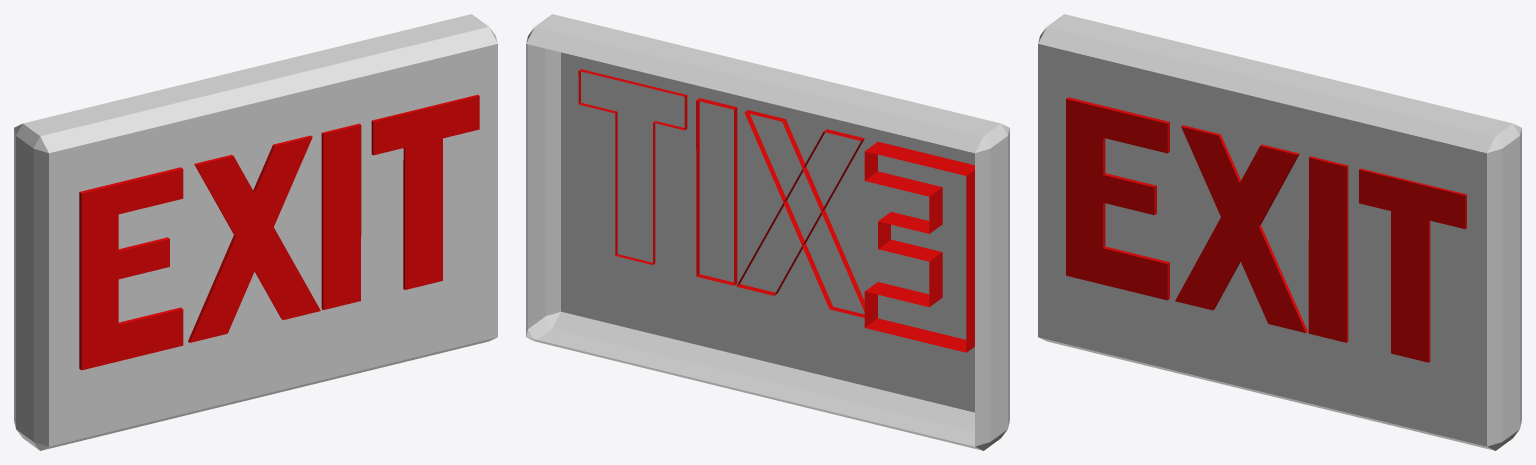
Rendered from ExitSign.fbx.
3 views of the same model, side by side, from view 1: azimuth 30°, elevation 25°; view 2: azimuth 150°, elevation 25°; view 3: azimuth 330°, elevation 25° (orthographic).
Parts seen in each view (by area): view 1: polySurface6; view 2: polySurface6; view 3: polySurface6.
Part boxes in pixels (x1=…): polySurface6: x1=14, y1=14, x2=497, y2=450; polySurface6: x1=526, y1=14, x2=1009, y2=450; polySurface6: x1=1038, y1=14, x2=1521, y2=450.
Size of the model in its own units: 0.6424 by 0.4178 by 0.0898.
